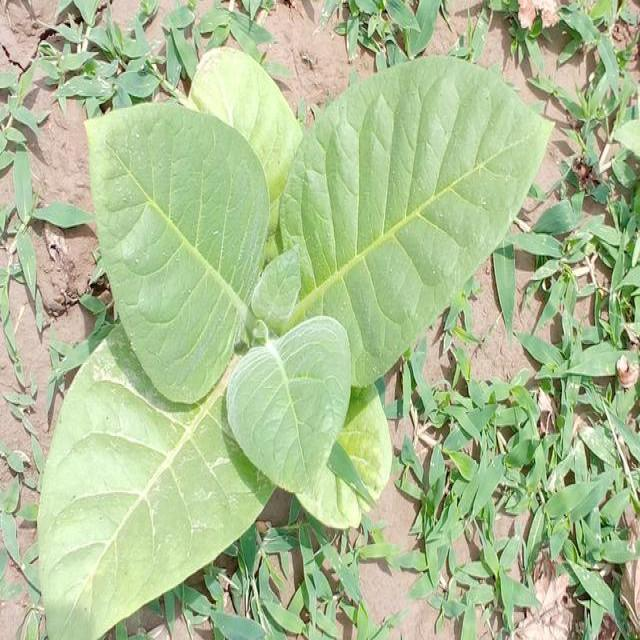crop: (14, 69, 547, 622)
